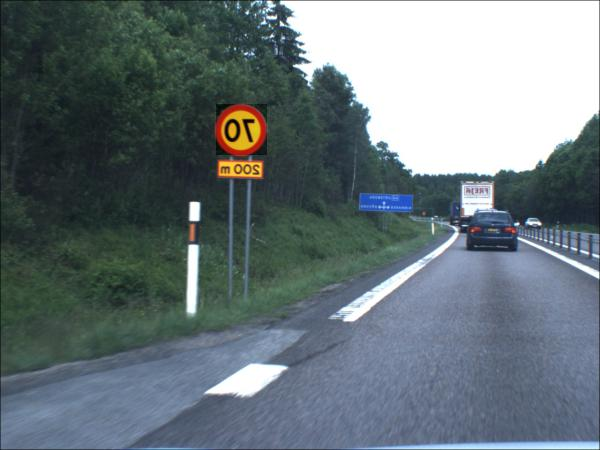70_SIGN: (216, 105, 268, 157)
